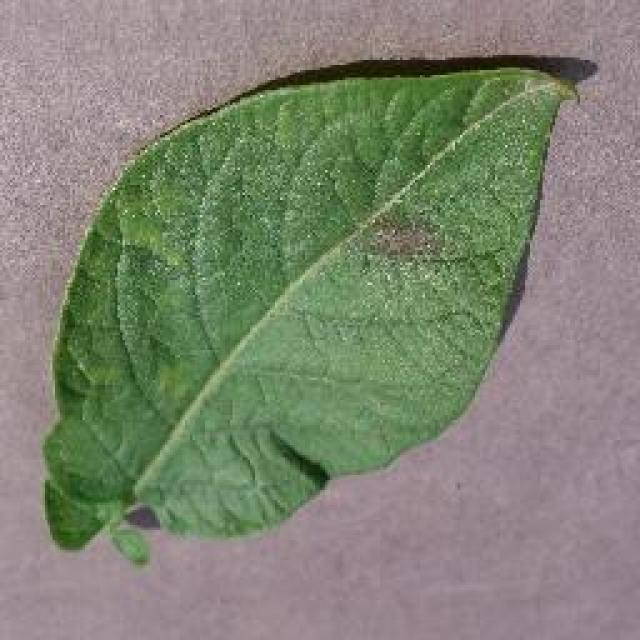late_blight: (35, 52, 583, 562)
